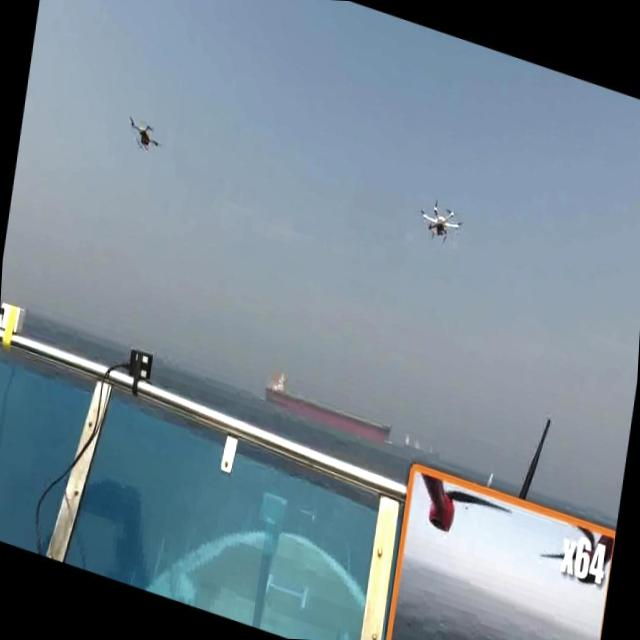drone: (409, 188, 467, 250), (122, 108, 164, 166)
